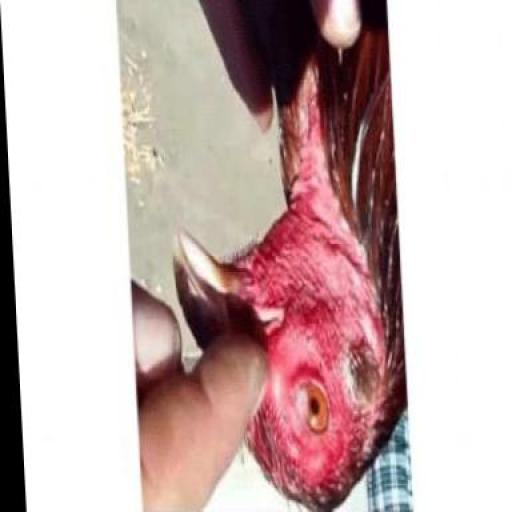disease: (235, 301, 357, 509)
